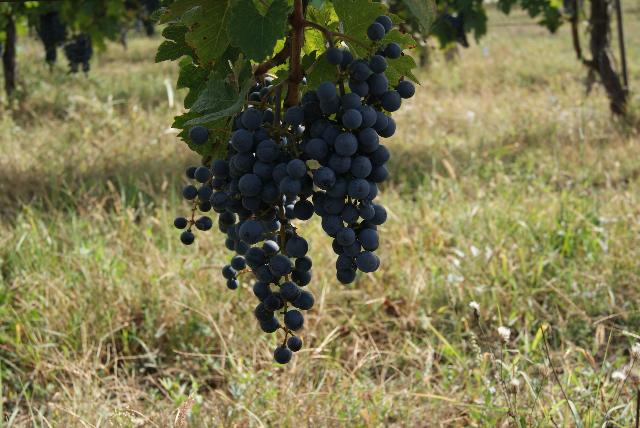grapes: (182, 104, 311, 364), (285, 48, 414, 284)
